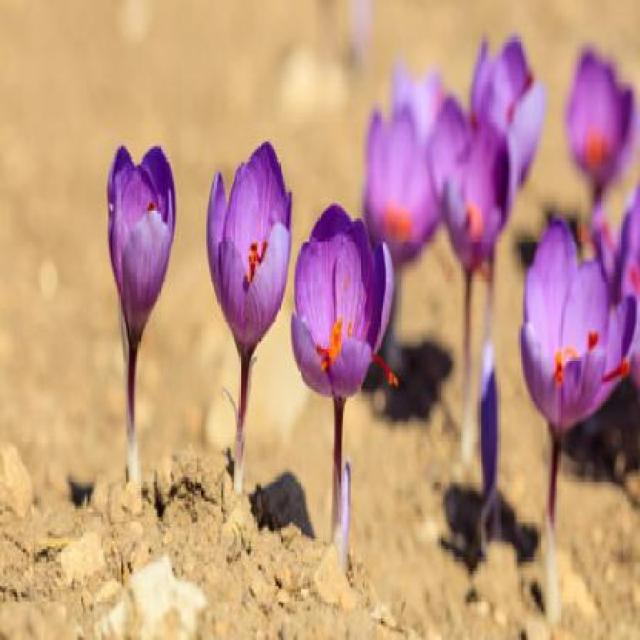Flower: (520, 199, 632, 450), (293, 186, 396, 412), (204, 130, 293, 375), (430, 88, 513, 286), (104, 138, 178, 358), (468, 28, 550, 198), (568, 40, 638, 189)
stigma: (365, 345, 399, 387), (599, 356, 638, 386), (246, 239, 268, 267), (244, 257, 262, 288)
